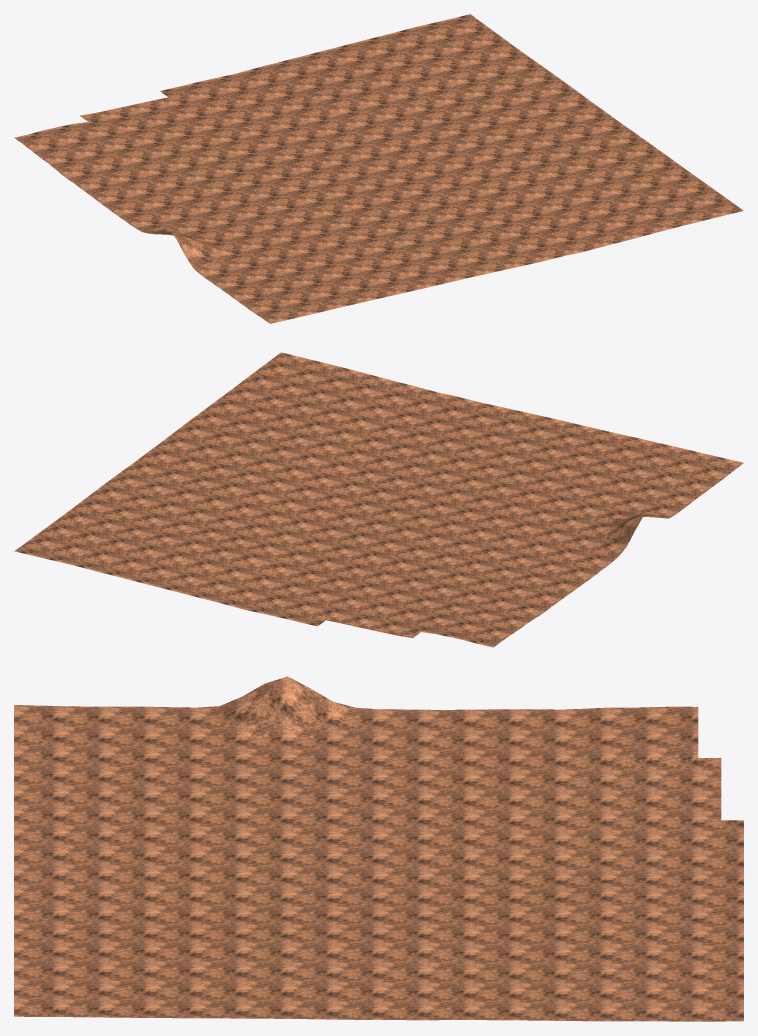
File: terrain_09_01.dae
3 views of the same model, one above another, from view 1: azimuth 30°, elevation 25°; view 2: azimuth 150°, elevation 25°; view 3: azimuth 270°, elevation 25° (orthographic). The views are drawn at different scales.
Parts seen in each view (by area): view 1: terrain_09_01-node; view 2: terrain_09_01-node; view 3: terrain_09_01-node.
Part boxes in pixels (box(x1,y1,x2,y2)): terrain_09_01-node: box(14, 14, 743, 323); terrain_09_01-node: box(14, 352, 743, 647); terrain_09_01-node: box(14, 676, 743, 1021).
Size of the model in its own units: 128 by 128 by 7.65.
1 material, 1 textured.
